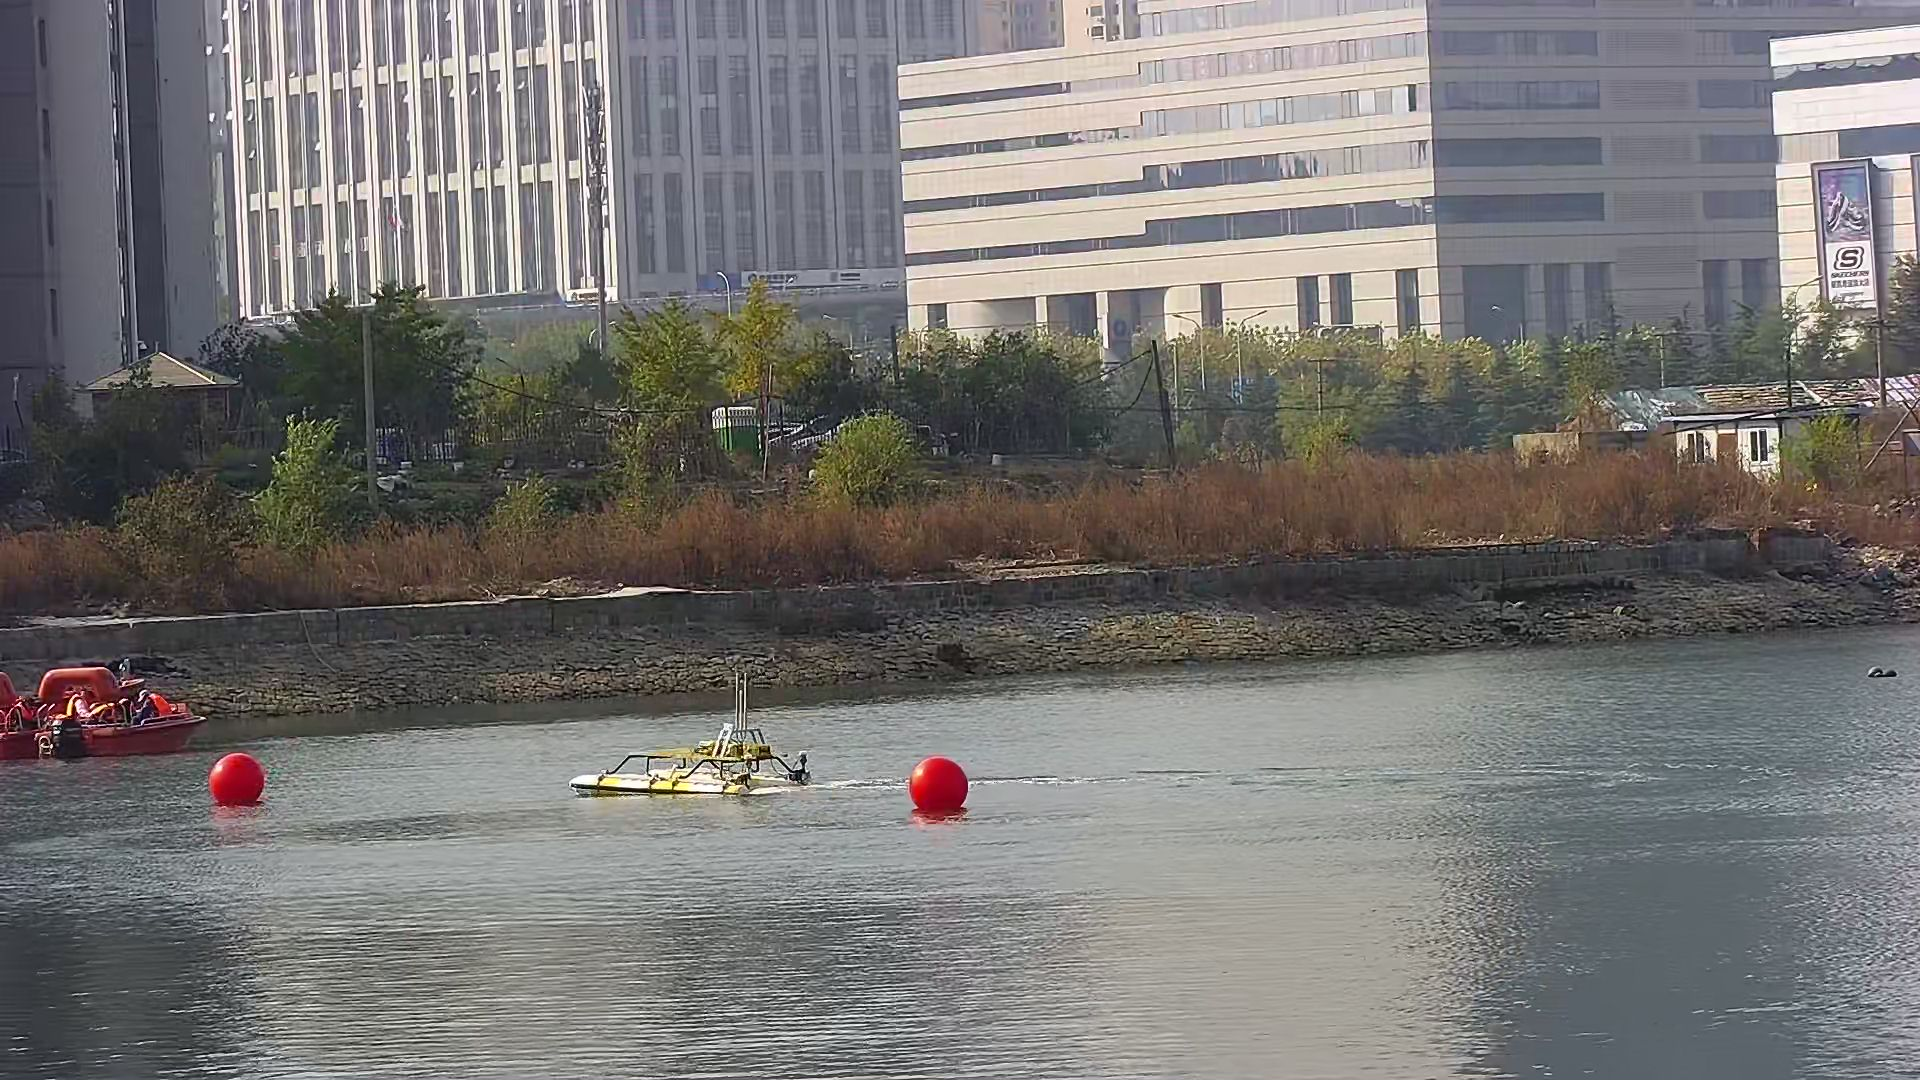ball: (906, 752, 975, 822), (206, 756, 266, 810)
boat: (1, 667, 210, 758), (559, 731, 814, 804)
rubbish: (1867, 659, 1902, 679)
